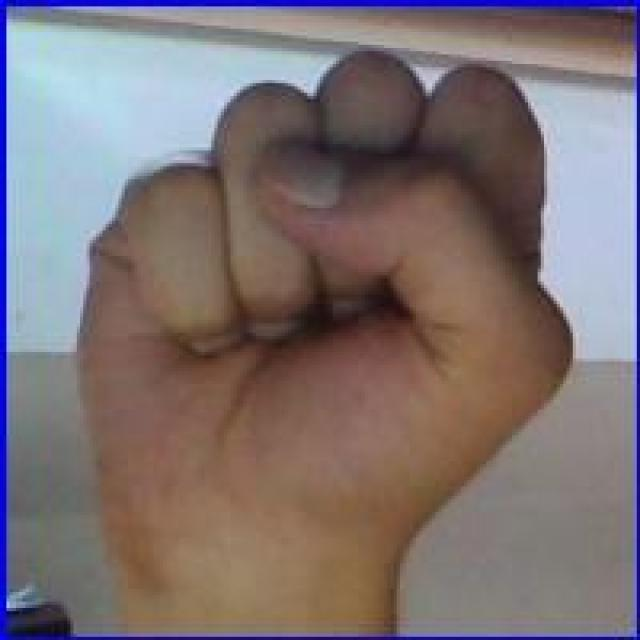S: (68, 40, 578, 603)
